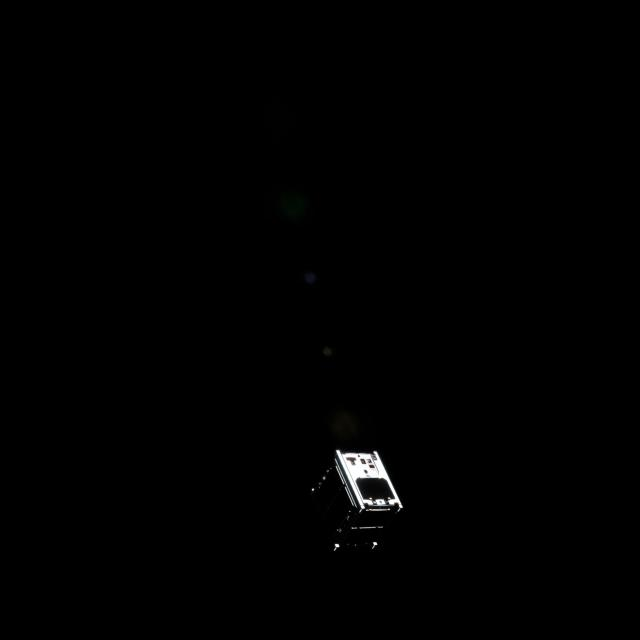satellite: (303, 448, 405, 556)
